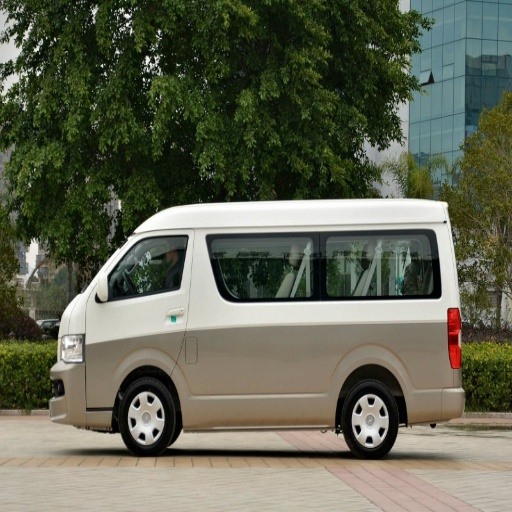back_left_door: (115, 252, 181, 323)
trunk: (262, 302, 459, 421), (63, 339, 132, 414)
